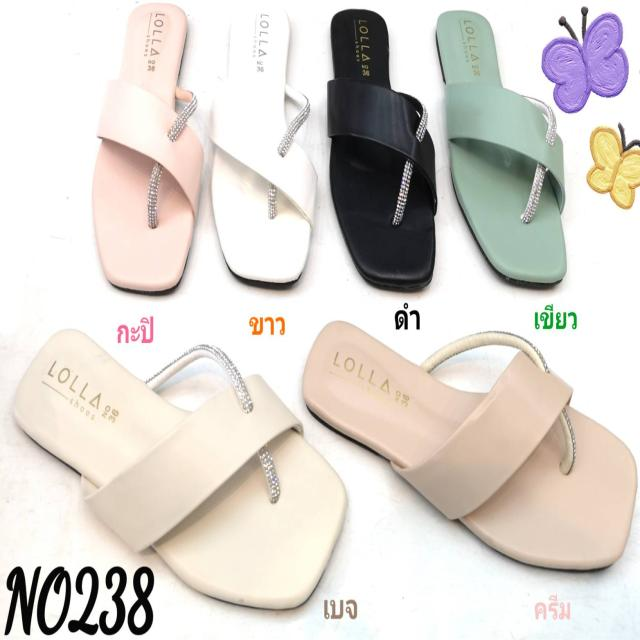bej: (12, 330, 347, 606)
black: (325, 9, 427, 287)
cream: (306, 318, 628, 570)
green: (433, 11, 565, 280)
kapi: (94, 0, 190, 279)
white: (211, 0, 307, 285)
